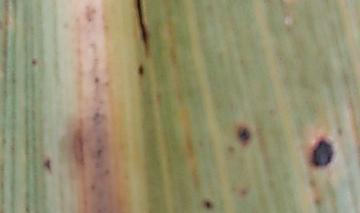tarspot: (135, 1, 152, 57), (312, 138, 333, 168), (237, 126, 251, 147), (43, 156, 52, 173), (138, 63, 145, 76), (205, 200, 213, 209), (31, 58, 38, 65)
